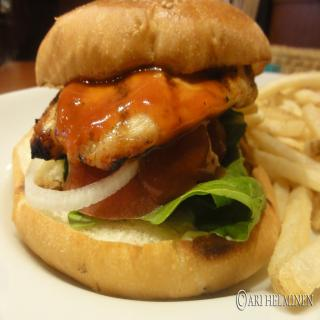French fries: (232, 58, 320, 288)
Hamburger: (10, 0, 282, 299)
